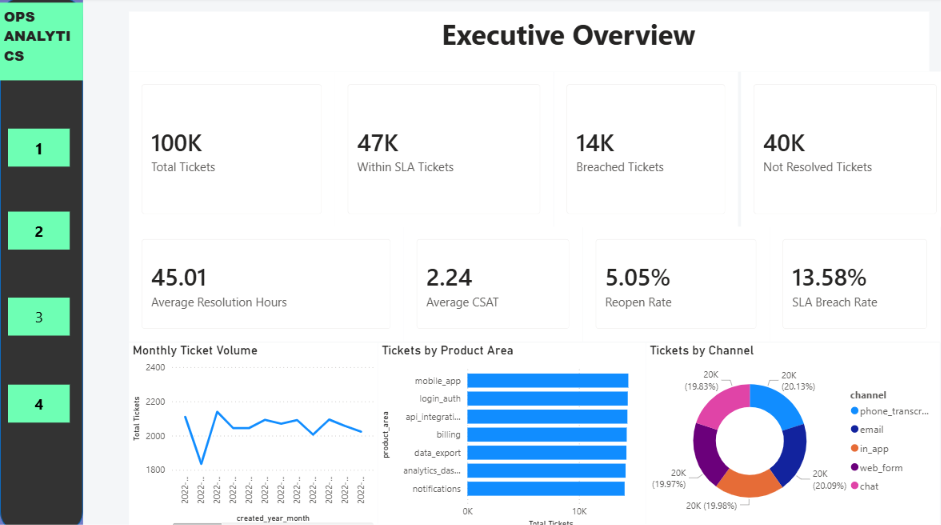

The dashboard page shown, as its layout file describes it:
{"tool":"powerbi","page":{"name":"Page 1","canvas":[1280,720],"ordinal":0},"visuals":[{"type":"cardVisual","fields":{"Data":["support_tickets_cleaned.Total Tickets"]},"box":[174.1,100,277.8,209.3],"z":0},{"type":"cardVisual","fields":{"Data":["support_tickets_cleaned.Within SLA Tickets"]},"box":[451.9,100,294.4,209.3],"z":1000},{"type":"cardVisual","fields":{"Data":["support_tickets_cleaned.Breached Tickets"]},"box":[746.3,100,248.1,209.3],"z":2000},{"type":"cardVisual","fields":{"Data":["support_tickets_cleaned.Not Resolved Tickets"]},"box":[998.1,100,281.5,209.3],"z":3000},{"type":"cardVisual","fields":{"Data":["support_tickets_cleaned.SLA Breach Rate"]},"box":[1037,309.3,229.6,155.6],"z":4000},{"type":"cardVisual","fields":{"Data":["support_tickets_cleaned.Average Resolution Hours"]},"box":[174.1,309.3,370.4,155.6],"z":5000},{"type":"cardVisual","fields":{"Data":["support_tickets_cleaned.Average CSAT"]},"box":[544.4,309.3,240.7,155.6],"z":6000},{"type":"cardVisual","fields":{"Data":["support_tickets_cleaned.Reopen Rate"]},"box":[785.2,309.3,251.9,155.6],"z":7000},{"type":"lineChart","title":"Monthly Ticket Volume","fields":{"Category":["support_tickets_cleaned.created_year_month"],"Y":["support_tickets_cleaned.Total Tickets"]},"box":[174.1,464.8,335.2,255.6],"z":8000},{"type":"clusteredBarChart","title":"Tickets by Product Area","fields":{"Category":["support_tickets_cleaned.product_area"],"Y":["support_tickets_cleaned.Total Tickets"]},"box":[509.3,464.8,361.1,255.6],"z":9000},{"type":"donutChart","title":"Tickets by Channel","fields":{"Category":["support_tickets_cleaned.channel"],"Y":["support_tickets_cleaned.Total Tickets"]},"box":[870.4,464.8,396.3,246.3],"z":10000},{"type":"textbox","box":[173.8,18.9,1078.1,80.9],"z":11000},{"type":"shape","box":[0,0,111.9,721],"z":12000},{"type":"actionButton","box":[10.8,288.4,83.6,51.2],"z":13000},{"type":"textbox","box":[0,6.7,111.9,105.1],"z":14000},{"type":"actionButton","box":[10.8,176.5,83.6,51],"z":15000},{"type":"actionButton","box":[10.8,404.3,83.6,51],"z":16000},{"type":"actionButton","box":[10.8,521.5,83,51],"z":17000}]}

Visuals, with their boxes on the page's 1280x720 design canvas (x1, y1, x2, y2). These are canvas units, not pixel positions in the 941x525 screenshot, which may show the page scaled, cropped or inside an application window:
cardVisual - support_tickets_cleaned.Total Tickets: l=174, t=100, r=452, b=309
cardVisual - support_tickets_cleaned.Within SLA Tickets: l=452, t=100, r=746, b=309
cardVisual - support_tickets_cleaned.Breached Tickets: l=746, t=100, r=994, b=309
cardVisual - support_tickets_cleaned.Not Resolved Tickets: l=998, t=100, r=1280, b=309
cardVisual - support_tickets_cleaned.SLA Breach Rate: l=1037, t=309, r=1267, b=465
cardVisual - support_tickets_cleaned.Average Resolution Hours: l=174, t=309, r=544, b=465
cardVisual - support_tickets_cleaned.Average CSAT: l=544, t=309, r=785, b=465
cardVisual - support_tickets_cleaned.Reopen Rate: l=785, t=309, r=1037, b=465
"Monthly Ticket Volume" lineChart: l=174, t=465, r=509, b=720
"Tickets by Product Area" clusteredBarChart: l=509, t=465, r=870, b=720
"Tickets by Channel" donutChart: l=870, t=465, r=1267, b=711
textbox: l=174, t=19, r=1252, b=100
shape: l=0, t=0, r=112, b=721
actionButton: l=11, t=288, r=94, b=340
textbox: l=0, t=7, r=112, b=112
actionButton: l=11, t=176, r=94, b=228
actionButton: l=11, t=404, r=94, b=455
actionButton: l=11, t=522, r=94, b=572
